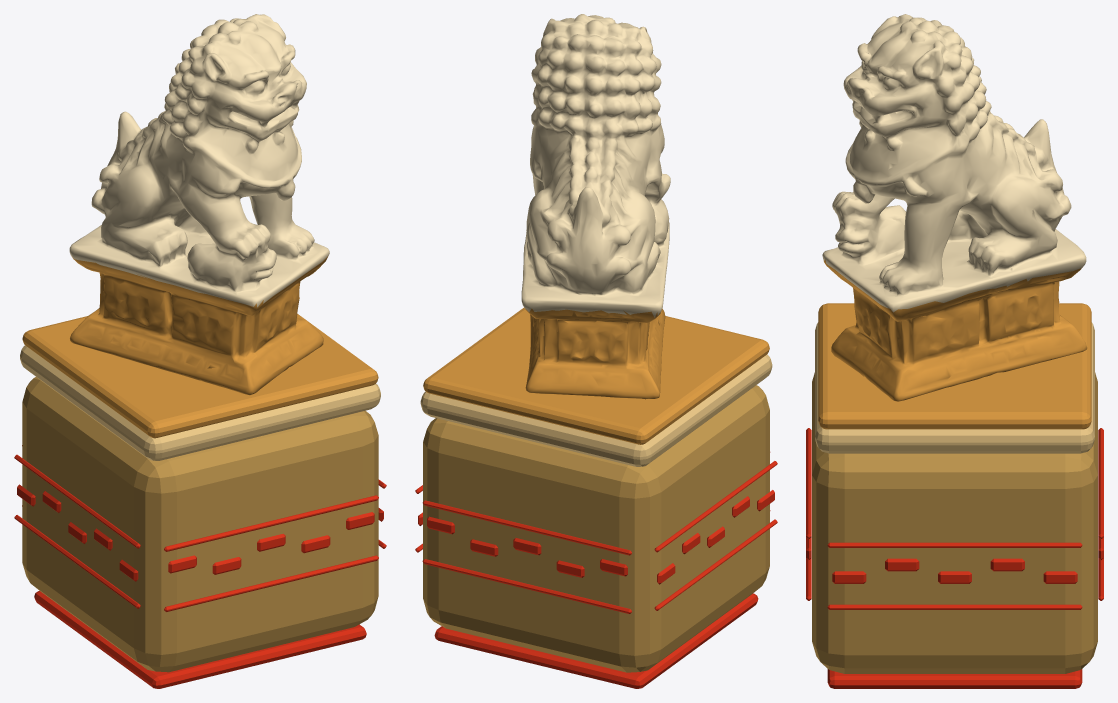
The model's file is yuxi.glb.
The picture shows the model from 3 angles, left to right: view 1: azimuth 30°, elevation 25°; view 2: azimuth 150°, elevation 25°; view 3: azimuth 270°, elevation 25°; orthographic projection. The views are drawn at different scales.
Parts seen in each view (by area): view 1: warm-nephrite-seal-body, licensed-warm-jade-guardian-lion, antique-gold-guardian-collar, milky-jade-raised-shoulder, cinnabar-meander-band, cinnabar-stamp-face; view 2: warm-nephrite-seal-body, licensed-warm-jade-guardian-lion, antique-gold-guardian-collar, milky-jade-raised-shoulder, cinnabar-meander-band, cinnabar-stamp-face; view 3: licensed-warm-jade-guardian-lion, warm-nephrite-seal-body, antique-gold-guardian-collar, milky-jade-raised-shoulder, cinnabar-meander-band, cinnabar-stamp-face.
Boxes of the visible parts, x1=… form: warm-nephrite-seal-body: x1=22, y1=377, x2=378, y2=672; licensed-warm-jade-guardian-lion: x1=69, y1=14, x2=329, y2=395; antique-gold-guardian-collar: x1=22, y1=314, x2=378, y2=438; milky-jade-raised-shoulder: x1=20, y1=345, x2=380, y2=460; cinnabar-meander-band: x1=14, y1=445, x2=386, y2=611; cinnabar-stamp-face: x1=34, y1=591, x2=366, y2=688; warm-nephrite-seal-body: x1=423, y1=385, x2=769, y2=672; licensed-warm-jade-guardian-lion: x1=521, y1=14, x2=670, y2=399; antique-gold-guardian-collar: x1=423, y1=307, x2=769, y2=444; milky-jade-raised-shoulder: x1=420, y1=354, x2=772, y2=466; cinnabar-meander-band: x1=415, y1=452, x2=777, y2=613; cinnabar-stamp-face: x1=434, y1=593, x2=758, y2=688; licensed-warm-jade-guardian-lion: x1=822, y1=14, x2=1087, y2=401; warm-nephrite-seal-body: x1=812, y1=372, x2=1097, y2=673; antique-gold-guardian-collar: x1=818, y1=303, x2=1091, y2=429; milky-jade-raised-shoulder: x1=815, y1=322, x2=1094, y2=453; cinnabar-meander-band: x1=806, y1=428, x2=1103, y2=609; cinnabar-stamp-face: x1=827, y1=669, x2=1082, y2=688.
Size of the model in its own units: 0.4329 by 1 by 0.4329.
